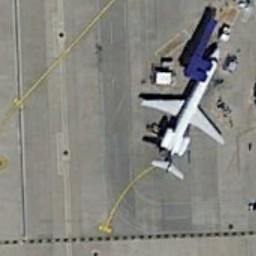Airplane: (126, 39, 244, 182)
